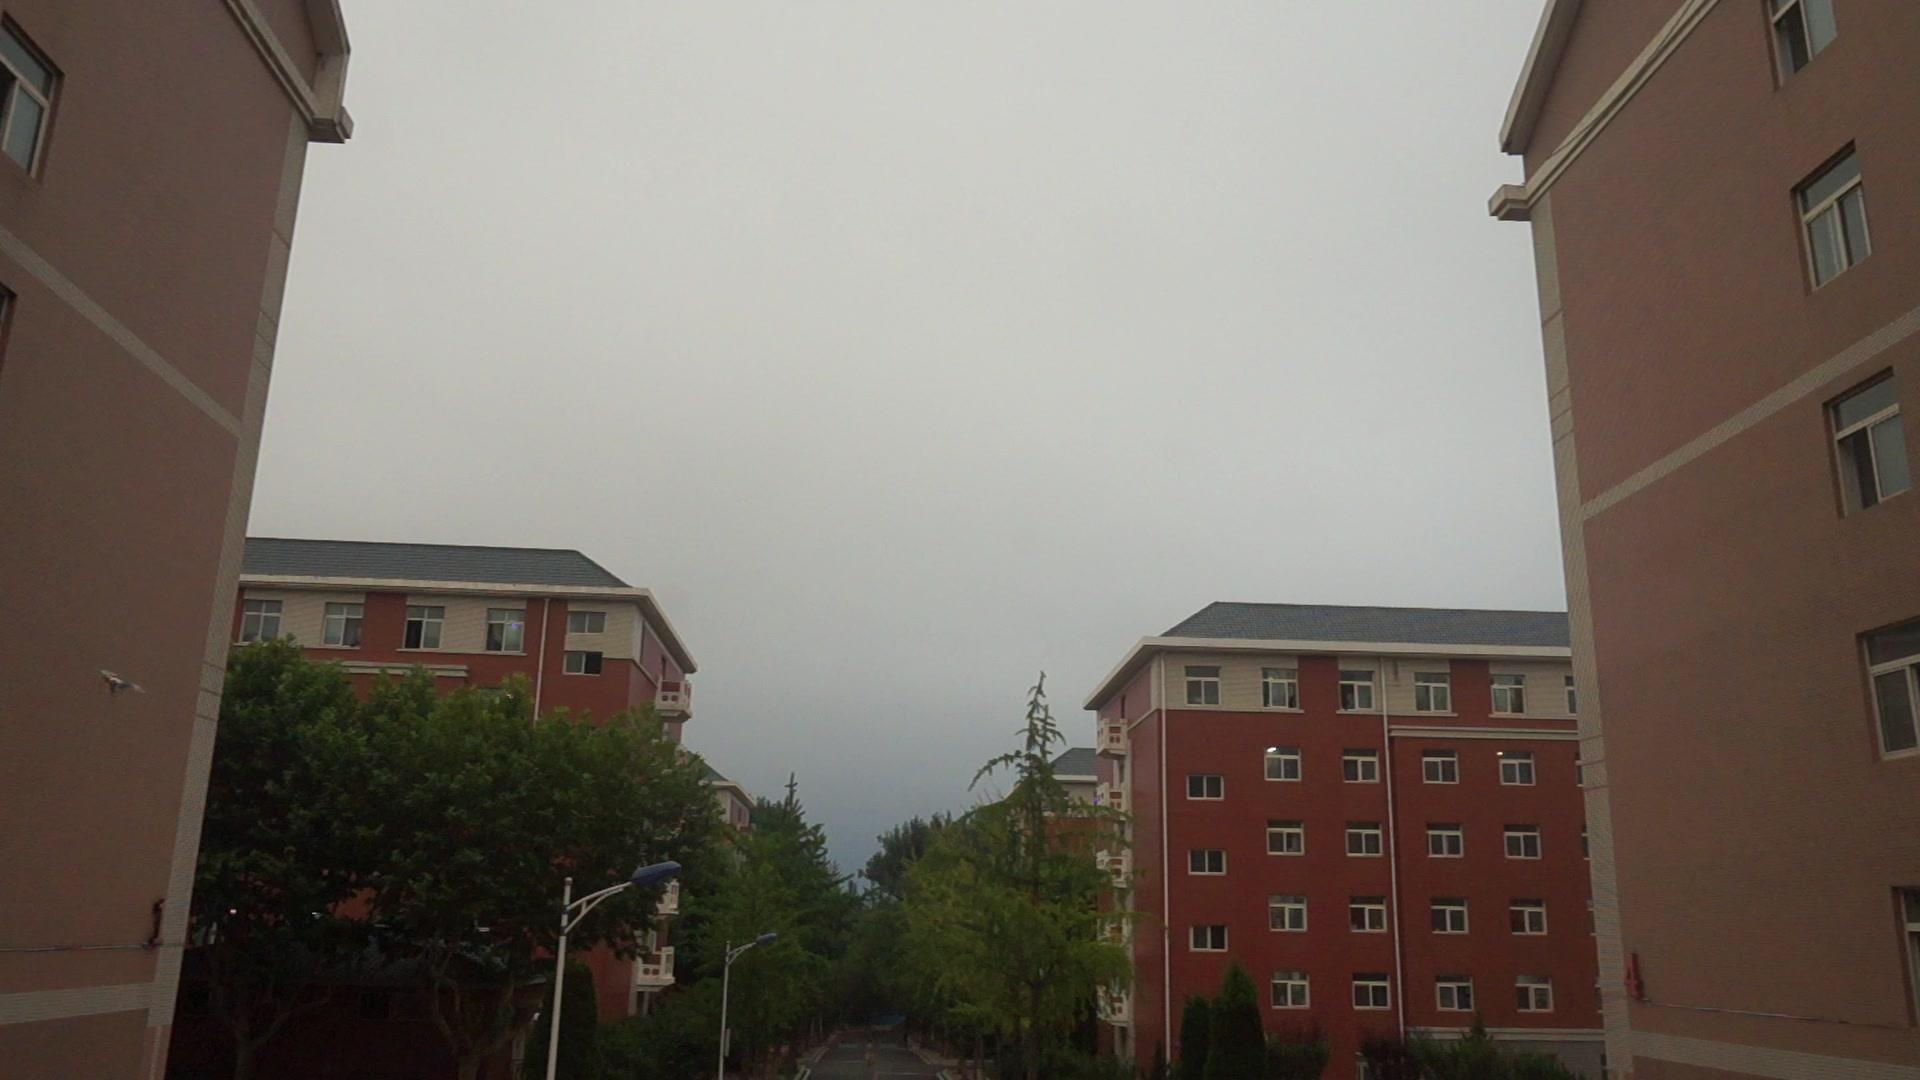UAV: (102, 671, 146, 698)
